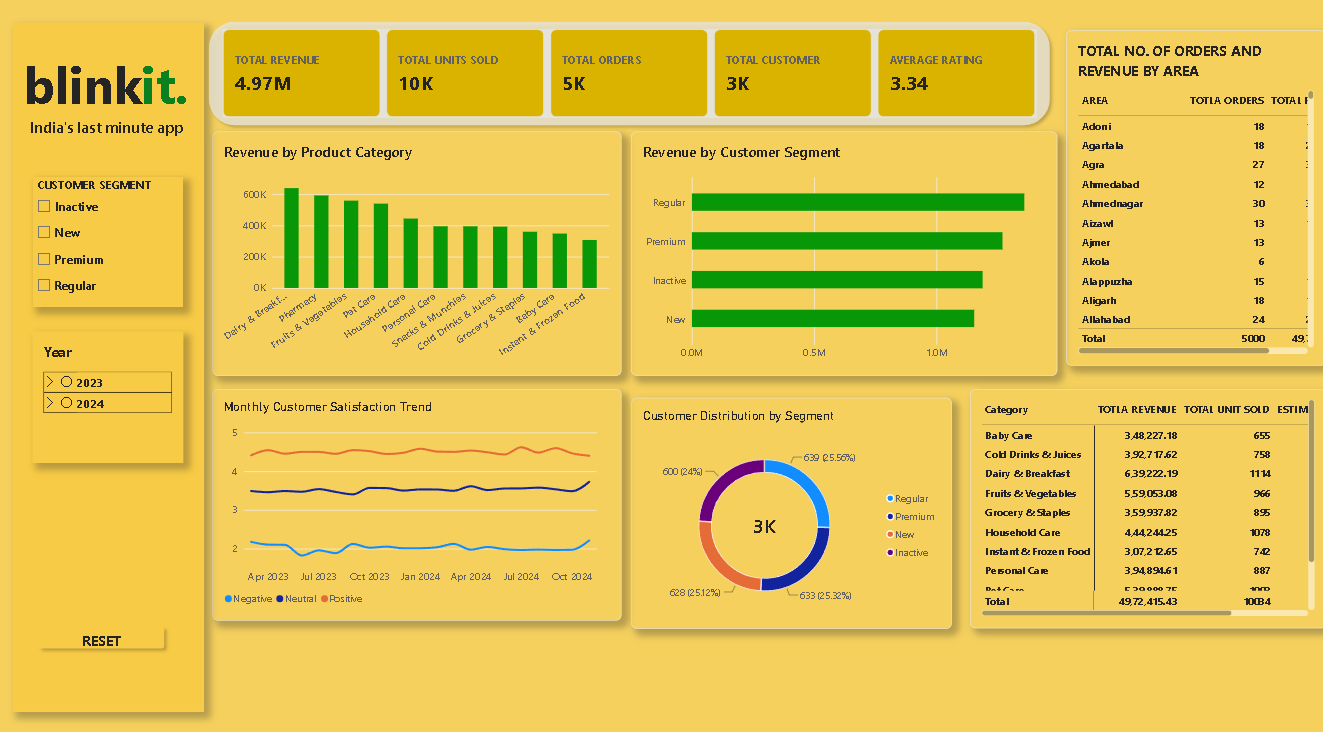

This screenshot's page, from the dashboard's own definition file:
{"tool":"powerbi","page":{"name":"Page 1","canvas":[1920,1080],"ordinal":0},"visuals":[{"type":"clusteredColumnChart","title":"Revenue by Product Category","fields":{"Category":["blinkit_products.category"],"Y":["blinkit_order_items.total revenue"]},"box":[308.3,198.3,591.7,353.3],"z":0},{"type":"clusteredBarChart","title":"Revenue by Customer Segment","fields":{"Category":["blinkit_customers.customer_segment"],"Y":["blinkit_order_items.total revenue"]},"box":[913.3,198.3,616.7,353.3],"z":1000},{"type":"donutChart","title":"Customer Distribution by Segment","fields":{"Category":["blinkit_customers.customer_segment"],"Y":["blinkit_customers.customer count"]},"box":[914,584,464,334],"z":2000},{"type":"lineChart","title":"Monthly Customer Satisfaction Trend","fields":{"Category":["blinkit_customer_feedback.feedback_date.Variation.Date Hierarchy.Year","blinkit_customer_feedback.feedback_date.Variation.Date Hierarchy.Month"],"Series":["blinkit_customer_feedback.sentiment"],"Y":["blinkit_customer_feedback.average rating"]},"box":[308.3,571.7,591.7,335],"z":3000},{"type":"shape","box":[293.3,30,1235.5,168.1],"z":4500,"group":"g1"},{"type":"shape","box":[17.9,41.1,277.1,997.7],"z":5000},{"type":"cardVisual","fields":{"Data":["blinkit_order_items.total revenue","blinkit_order_items.total units sold","blinkit_order_items.total orders","blinkit_customers.total customers","blinkit_customer_feedback.average rating"]},"box":[323.2,50.1,1179.2,128.7],"z":5000,"group":"g1"},{"type":"textbox","box":[0,82.2,307.5,152],"z":6000},{"type":"slicer","fields":{"Values":["blinkit_customers.customer_segment"]},"box":[46.7,265,218.1,189.5],"z":7000},{"type":"listSlicer","title":"Year ","fields":{"Values":["blinkit_customer_feedback.feedback_date.Variation.Date Hierarchy.Year","blinkit_customer_feedback.feedback_date.Variation.Date Hierarchy.Quarter","blinkit_customer_feedback.feedback_date.Variation.Date Hierarchy.Month","blinkit_customer_feedback.feedback_date.Variation.Date Hierarchy.Day"]},"box":[46.7,488.3,218.3,190],"z":8000},{"type":"tableEx","title":"TOTAL NO. OF ORDERS AND REVENUE BY AREA","fields":{"Values":["blinkit_customers.area","blinkit_order_items.total orders","blinkit_order_items.total revenue"]},"box":[1544.1,52,375.9,485.8],"z":9000},{"type":"actionButton","box":[46.7,906.7,200,50],"z":10000},{"type":"pivotTable","fields":{"Rows":["blinkit_products.category"],"Values":["blinkit_order_items.total revenue","blinkit_order_items.total units sold","blinkit_order_items.estimated profit"]},"box":[1404,572,516,346],"z":11000},{"type":"group","id":"g1","title":"Group 1","box":[293.3,30,1235.5,168.1],"z":11001}]}

Visuals, with their boxes in screenshot pixels (x1, y1, x2, y2), scaled from the page's 1920x1080 canvas onto the 1323x732 screenshot:
"Revenue by Product Category" clusteredColumnChart: {"left": 212, "top": 134, "right": 620, "bottom": 374}
"Revenue by Customer Segment" clusteredBarChart: {"left": 629, "top": 134, "right": 1054, "bottom": 374}
"Customer Distribution by Segment" donutChart: {"left": 630, "top": 396, "right": 950, "bottom": 622}
"Monthly Customer Satisfaction Trend" lineChart: {"left": 212, "top": 387, "right": 620, "bottom": 615}
shape: {"left": 202, "top": 20, "right": 1053, "bottom": 134}
shape: {"left": 12, "top": 28, "right": 203, "bottom": 704}
cardVisual - blinkit_order_items.total revenue x blinkit_order_items.total units sold: {"left": 223, "top": 34, "right": 1035, "bottom": 121}
textbox: {"left": 0, "top": 56, "right": 212, "bottom": 159}
slicer - blinkit_customers.customer_segment: {"left": 32, "top": 180, "right": 182, "bottom": 308}
"Year " listSlicer: {"left": 32, "top": 331, "right": 183, "bottom": 460}
"TOTAL NO. OF ORDERS AND REVENUE BY AREA" tableEx: {"left": 1064, "top": 35, "right": 1322, "bottom": 365}
actionButton: {"left": 32, "top": 615, "right": 170, "bottom": 648}
pivotTable - blinkit_products.category x blinkit_order_items.total revenue: {"left": 967, "top": 388, "right": 1322, "bottom": 622}
"Group 1" group: {"left": 202, "top": 20, "right": 1053, "bottom": 134}
